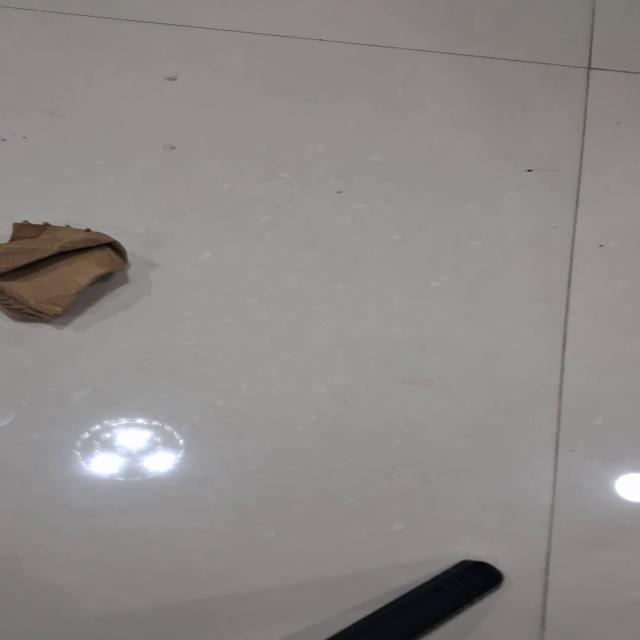paper: (2, 1, 636, 640), (0, 219, 128, 322)
